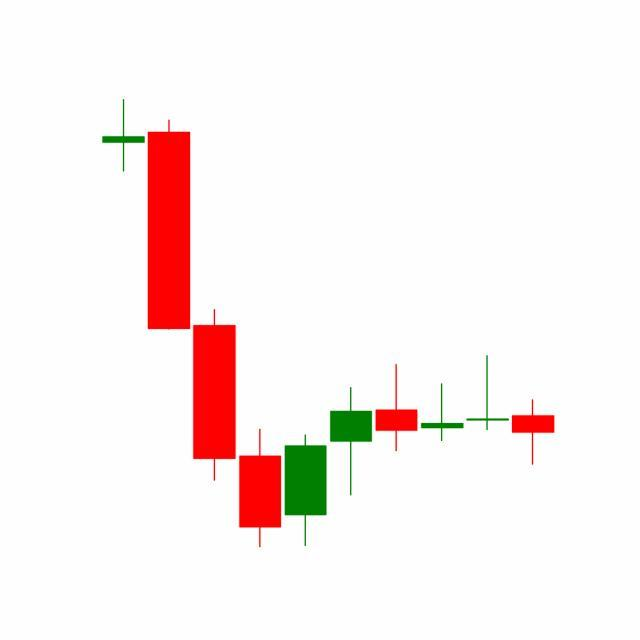Hikkake Pattern: (283, 353, 512, 549)
